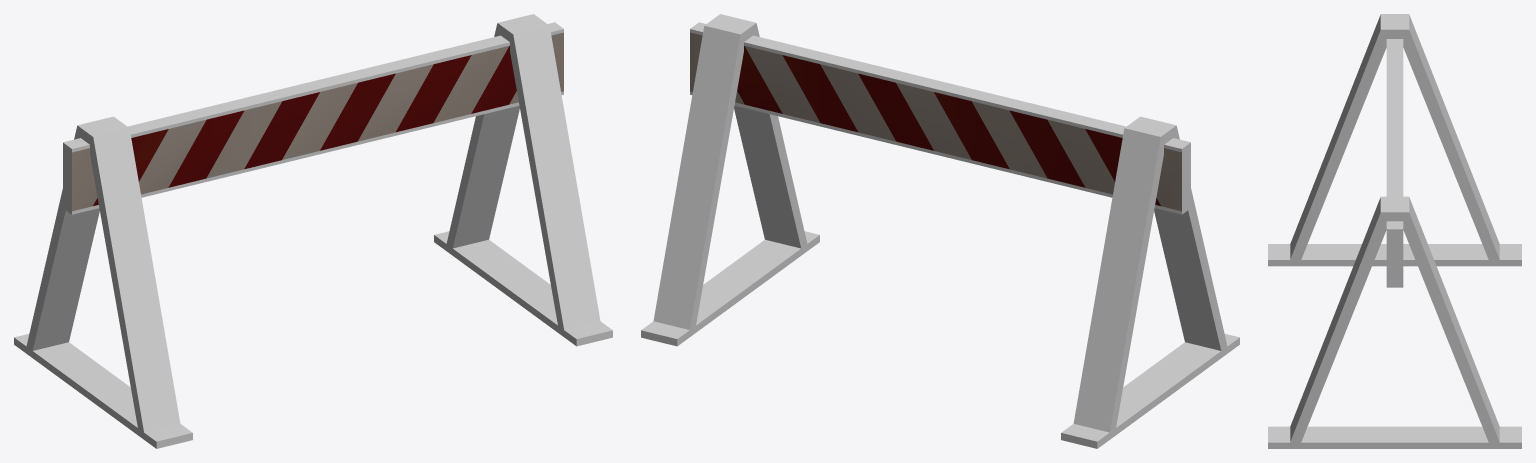
Rendered from TrafficBarrier_2.glb.
3 renders of one model, left to right at view 1: azimuth 30°, elevation 25°; view 2: azimuth 150°, elevation 25°; view 3: azimuth 270°, elevation 25°, orthographic. The views are drawn at different scales.
Visible parts, largest first — view 1: TrafficBarrier_2; view 2: TrafficBarrier_2; view 3: TrafficBarrier_2.
Boxes of the visible parts, x1,y1,x2,y2 form: TrafficBarrier_2: [14, 14, 612, 448]; TrafficBarrier_2: [641, 14, 1239, 448]; TrafficBarrier_2: [1268, 14, 1521, 448].
Bounding box in the file's own units: 1.56 × 0.8023 × 0.7801.
